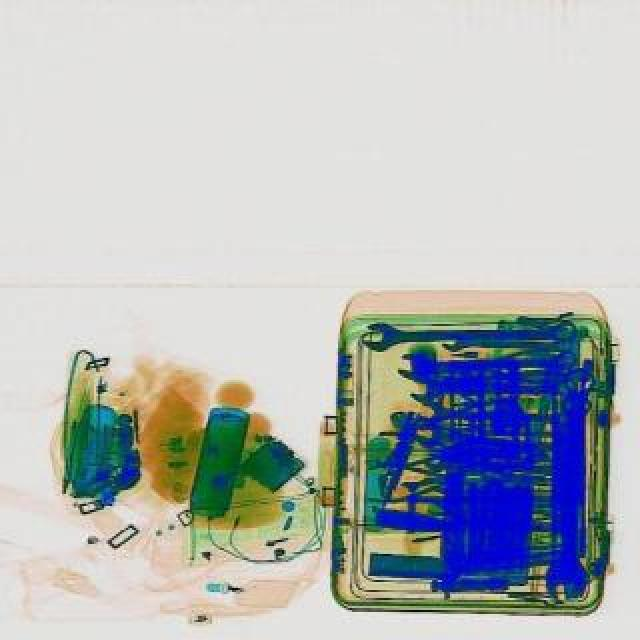scissors: (542, 394, 594, 600), (358, 318, 576, 350), (394, 348, 574, 382)
wrench: (362, 460, 458, 506), (374, 430, 466, 470)
